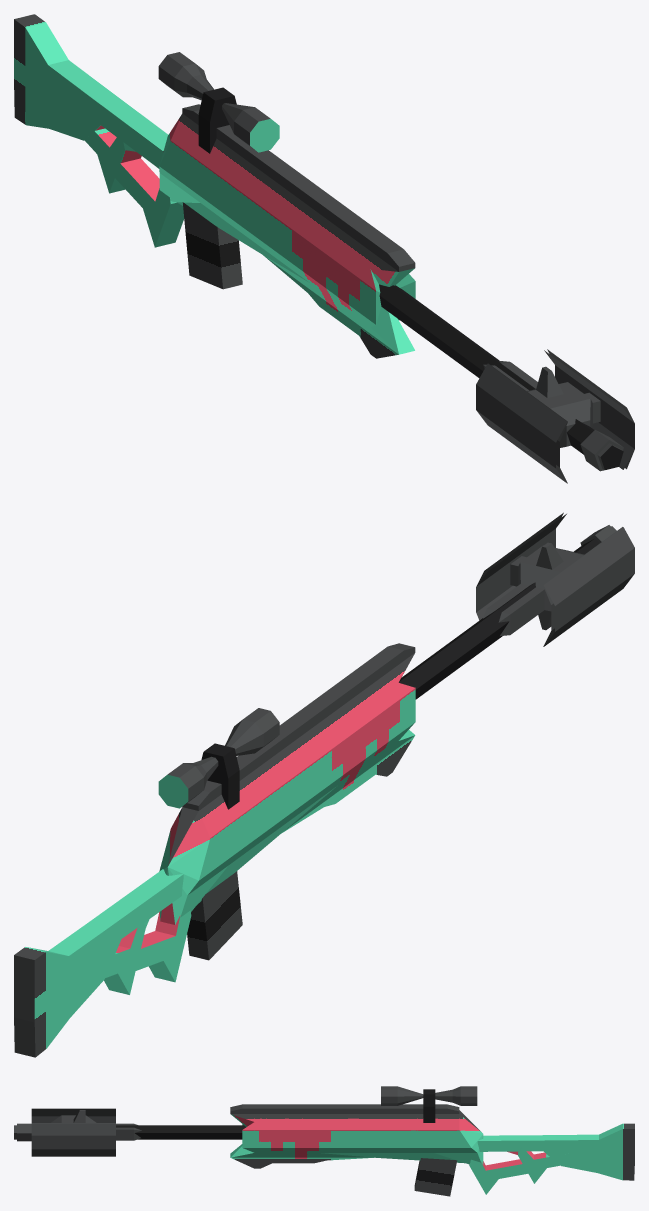
File: sniper.gltf
3 views of the same model, one above another, from view 1: azimuth 30°, elevation 25°; view 2: azimuth 150°, elevation 25°; view 3: azimuth 270°, elevation 25° (orthographic). The views are drawn at different scales.
Parts seen in each view (by area): view 1: Sniper; view 2: Sniper; view 3: Sniper.
Part boxes in pixels (bbox=[...]): Sniper: bbox=[14, 14, 634, 483]; Sniper: bbox=[14, 512, 634, 1057]; Sniper: bbox=[14, 1086, 634, 1196].
Size of the model in its own units: 0.25 by 0.6071 by 3.22.
1 material, 1 textured.
